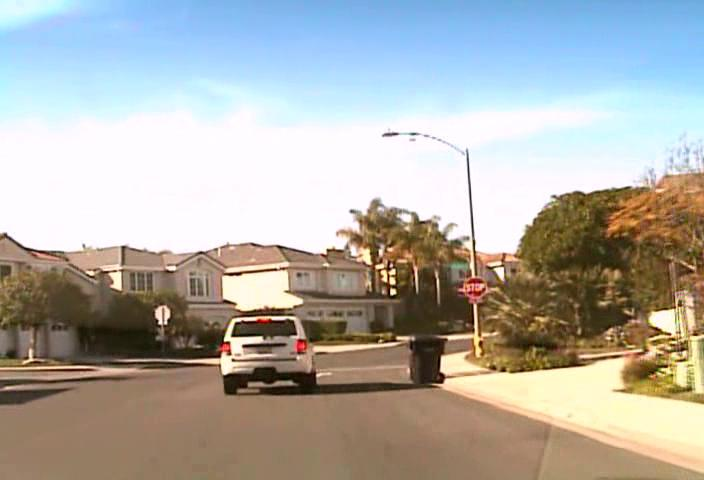stop: (463, 275, 487, 299)
